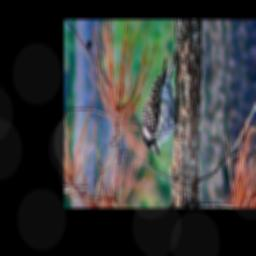Woodpecker: (135, 45, 190, 162)
